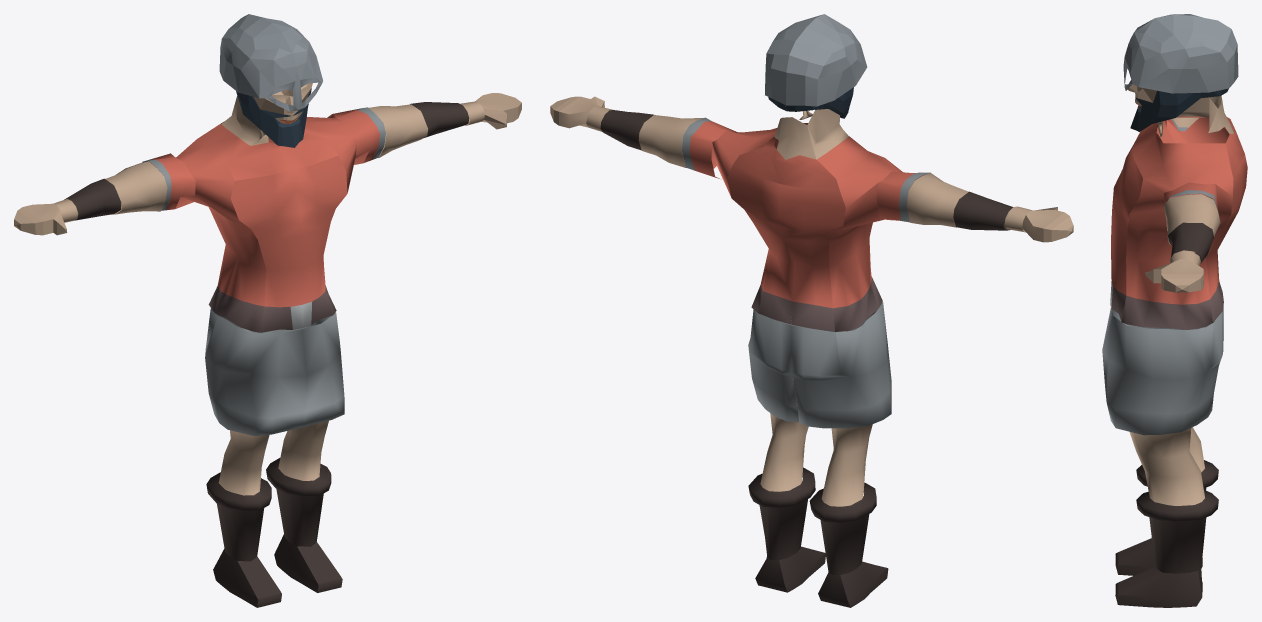
Rendered from Guerrero 1.fbx.
The picture shows the model from 3 angles, left to right: view 1: azimuth 30°, elevation 25°; view 2: azimuth 150°, elevation 25°; view 3: azimuth 270°, elevation 25°; orthographic projection. The views are drawn at different scales.
Parts seen in each view (by area): view 1: Box001, Skirt2, Boots1, Skin1, Helmet1, Leg.1, CABEZA.003; view 2: Box001, Skirt2, Boots1, Skin1, Helmet1, Leg.1, CABEZA.003; view 3: Box001, Skirt2, Boots1, Helmet1, Skin1, Leg.1, CABEZA.003.
Part boxes in pixels (x1=…): Box001: x1=64, y1=102, x2=469, y2=332; Skirt2: x1=205, y1=308, x2=344, y2=436; Boots1: x1=206, y1=458, x2=342, y2=607; Skin1: x1=14, y1=93, x2=521, y2=235; Helmet1: x1=219, y1=14, x2=322, y2=111; Leg.1: x1=218, y1=420, x2=328, y2=495; CABEZA.003: x1=236, y1=71, x2=312, y2=147; Box001: x1=600, y1=110, x2=1012, y2=331; Skirt2: x1=748, y1=302, x2=891, y2=428; Boots1: x1=748, y1=467, x2=888, y2=607; Skin1: x1=550, y1=96, x2=1073, y2=242; Helmet1: x1=765, y1=14, x2=867, y2=106; Leg.1: x1=760, y1=403, x2=872, y2=506; CABEZA.003: x1=768, y1=87, x2=853, y2=118; Box001: x1=1110, y1=116, x2=1247, y2=329; Skirt2: x1=1102, y1=306, x2=1223, y2=435; Boots1: x1=1115, y1=460, x2=1218, y2=607; Helmet1: x1=1123, y1=14, x2=1238, y2=93; Skin1: x1=1145, y1=95, x2=1234, y2=292; Leg.1: x1=1129, y1=427, x2=1204, y2=505; CABEZA.003: x1=1128, y1=84, x2=1228, y2=131.
Size of the model in its own units: 2952 by 3115 by 719.
